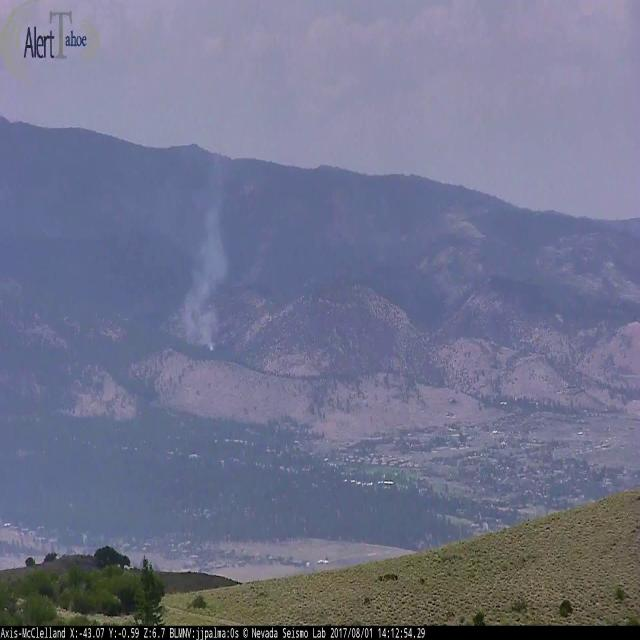smoke: (178, 144, 231, 355)
